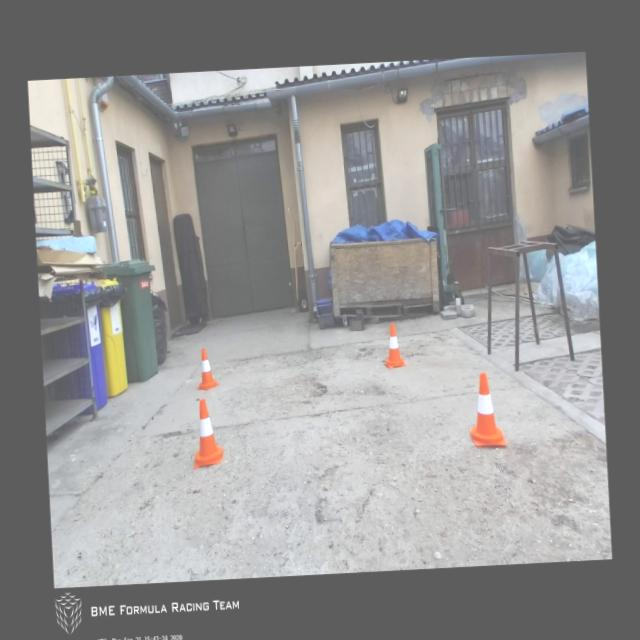orange_cone: (466, 372, 506, 447), (190, 398, 224, 469), (382, 322, 406, 370), (194, 348, 220, 391)
